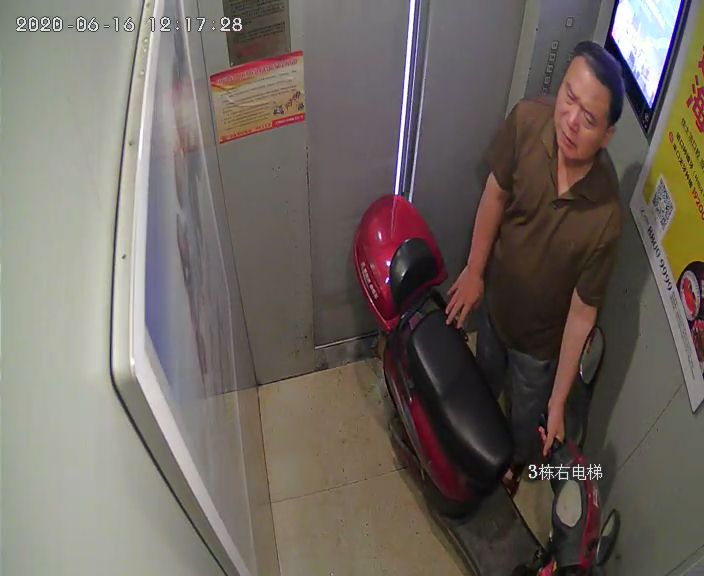Electric-bicycle: (354, 196, 622, 575)
